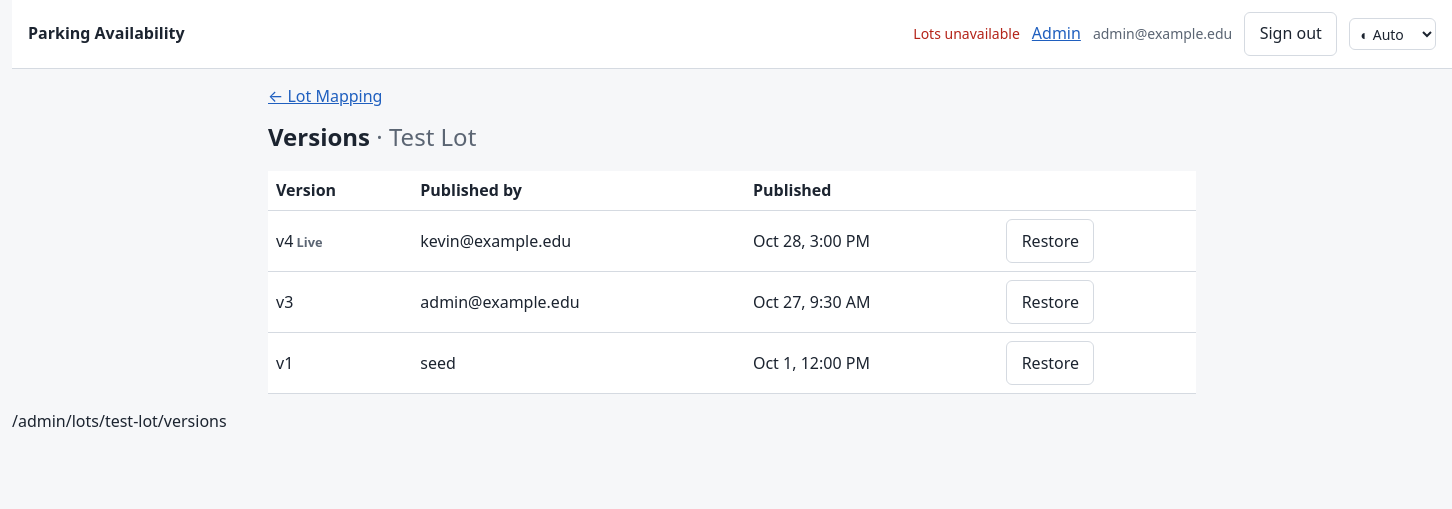
VersionsPage › shows a restore error and stays on the page
Click the button with aria-label "Restore v3" at coordinates (1050, 302), box [1006,280,1094,324]
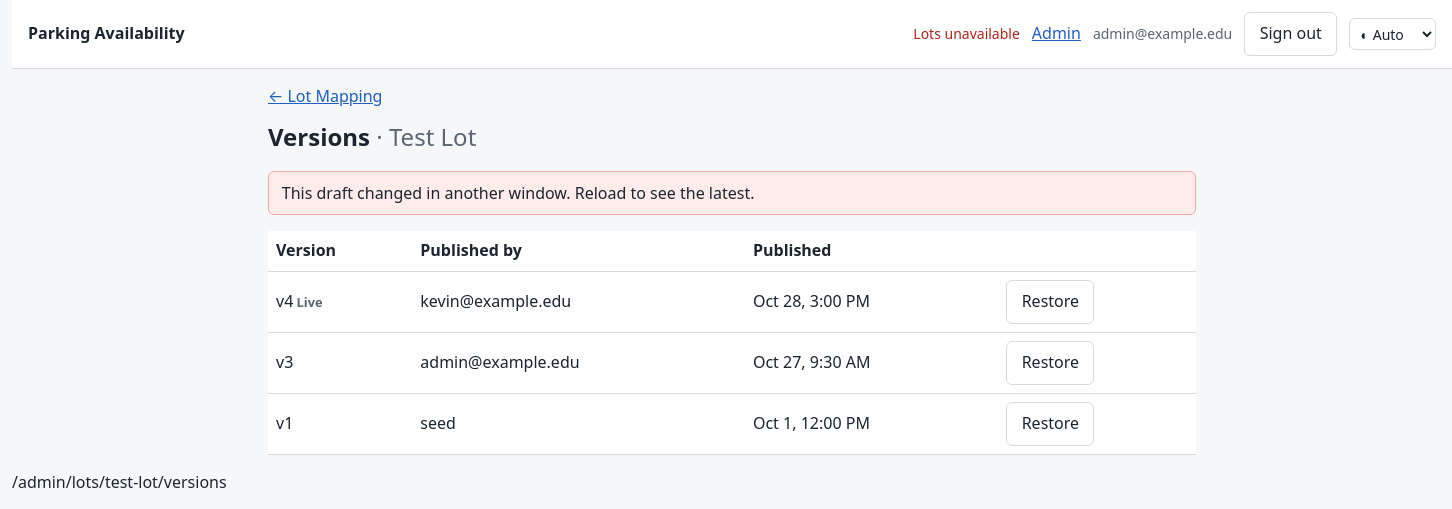
Expected: the button with aria-label "Restore v3" is enabled, [1006,340,1094,384]
Expected: the message shows "This draft changed in another window.", [282,182,754,204]
